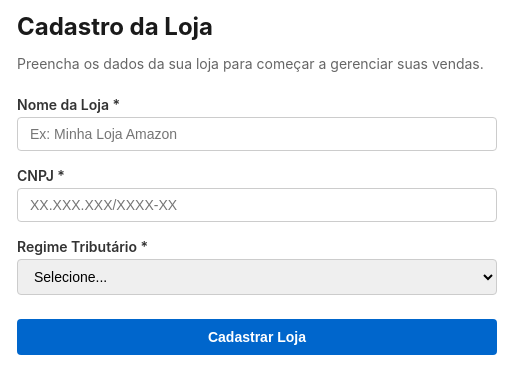
Scenario: SetupStorePage › shows error for invalid CNPJ format
Type "Minha Loja" into the field labelled "Nome da Loja *".
click(257, 134); type("Minha Loja")  # box left=17, top=117, right=497, bottom=151
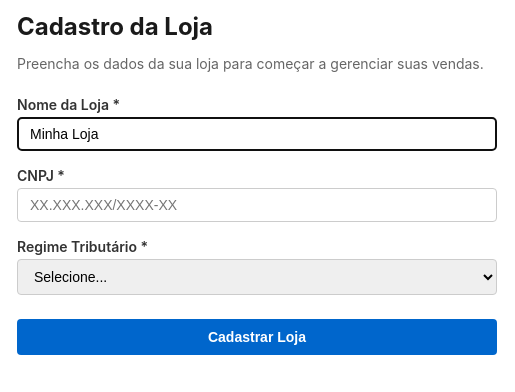
Type "12345678901234" into the field labelled "CNPJ *".
click(257, 205); type("12345678901234")  # box left=17, top=188, right=497, bottom=222
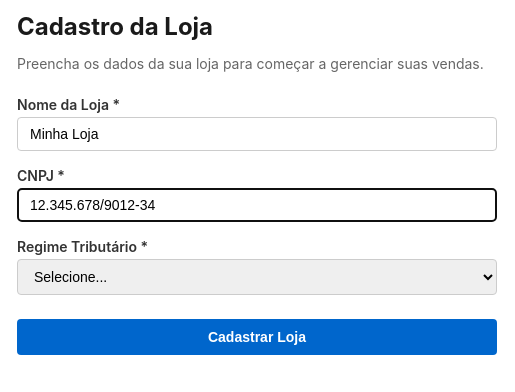
Select "MEI" in the dropdown labelled "Regime Tributário *" at (257, 277), box left=17, top=259, right=497, bottom=295
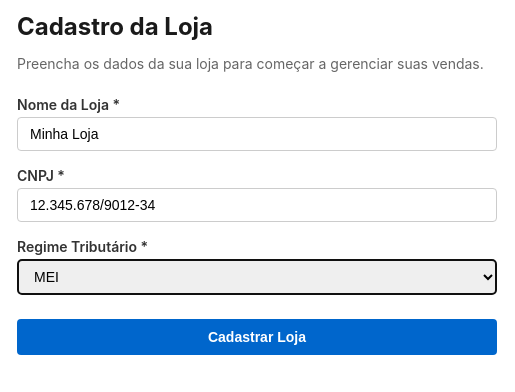
Click the button "Cadastrar Loja".
click(257, 337)  # box left=17, top=319, right=497, bottom=355
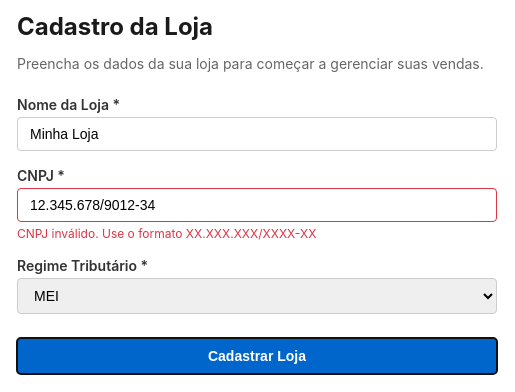
Now the text "CNPJ inválido. Use o formato XX.XXX.XXX/XXXX-XX" is shown, box left=17, top=226, right=316, bottom=241
